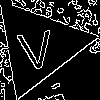V: (14, 20, 57, 72)
